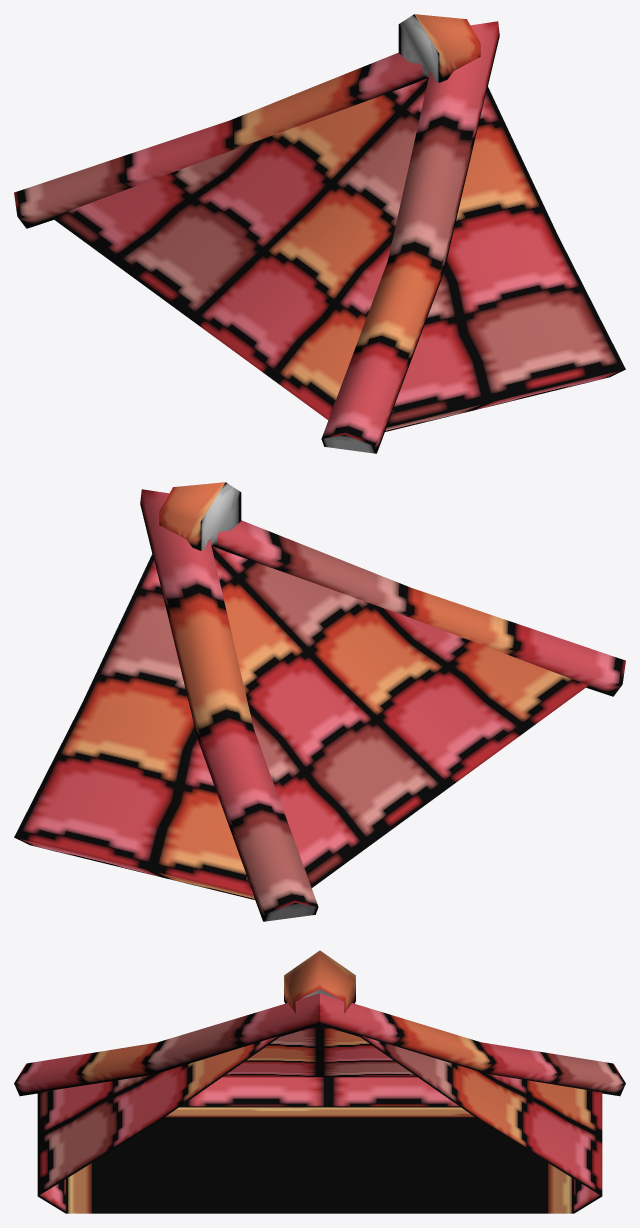
File: arch_roof_corner_tiles.FBX
3 renders of one model, top to bottom at view 1: azimuth 30°, elevation 25°; view 2: azimuth 150°, elevation 25°; view 3: azimuth 270°, elevation 25°, orthographic. The views are drawn at different scales.
Visible parts, largest first — view 1: arch_roof_corner_tiles; view 2: arch_roof_corner_tiles; view 3: arch_roof_corner_tiles.
Part boxes in pixels (box(x1,y1,x2,y2)): arch_roof_corner_tiles: box(14, 14, 625, 453); arch_roof_corner_tiles: box(14, 482, 625, 921); arch_roof_corner_tiles: box(14, 950, 625, 1213).
Size of the model in its own units: 3 by 2.35 by 5.42.
Materials: 1 (1 with a texture image).
